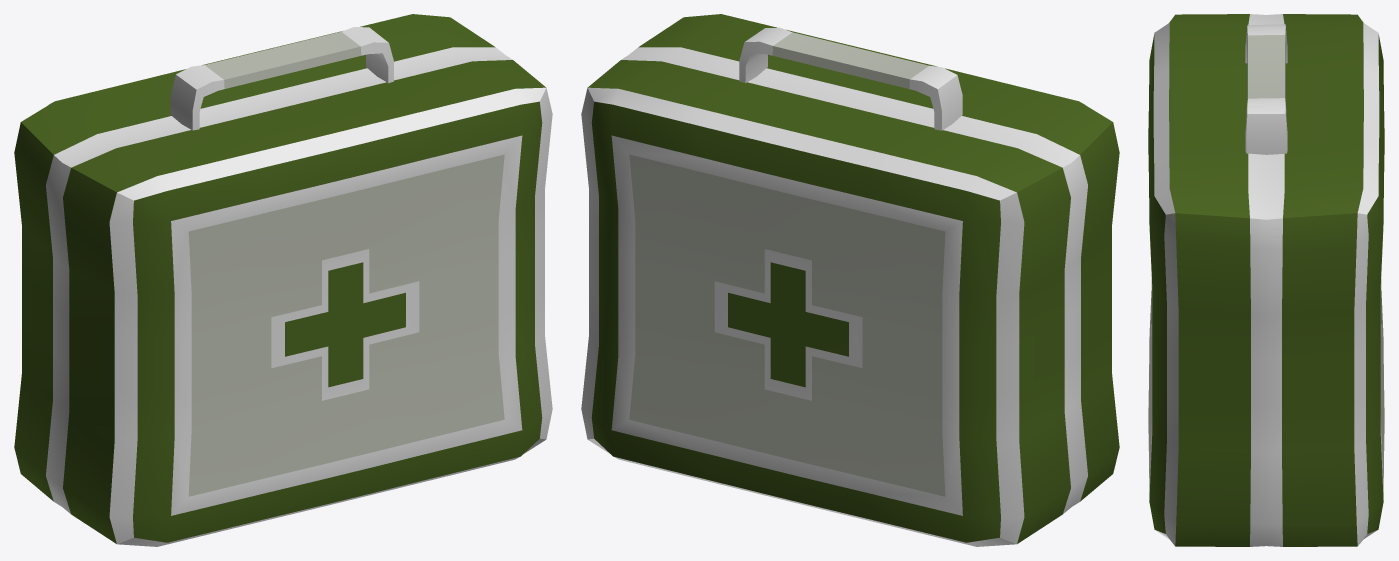
File: Health.glb
3 renders of one model, left to right at view 1: azimuth 30°, elevation 25°; view 2: azimuth 150°, elevation 25°; view 3: azimuth 270°, elevation 25°, orthographic. The views are drawn at different scales.
Visible parts, largest first — view 1: Health; view 2: Health; view 3: Health.
Part boxes in pixels (left/top/right/bottom): Health: left=14, top=14, right=552, bottom=546; Health: left=581, top=14, right=1119, bottom=546; Health: left=1148, top=14, right=1384, bottom=546.
Size of the model in its own units: 0.3031 by 0.2596 by 0.1422.
